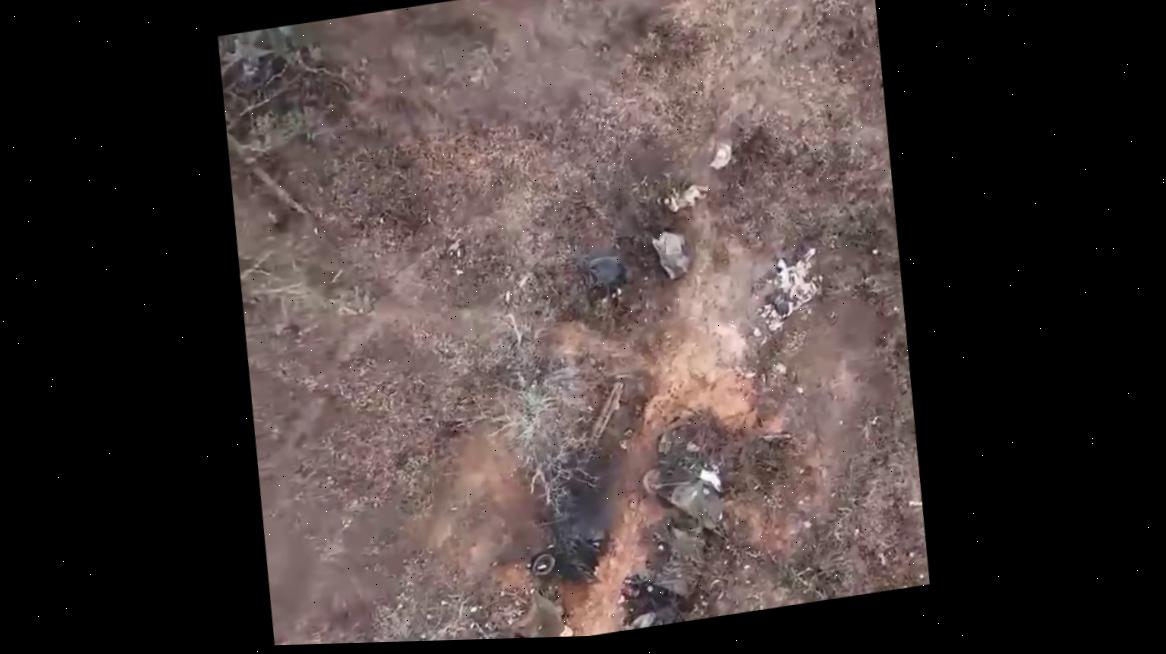person: (648, 226, 694, 281), (660, 180, 713, 212)
trench: (481, 412, 758, 639)
